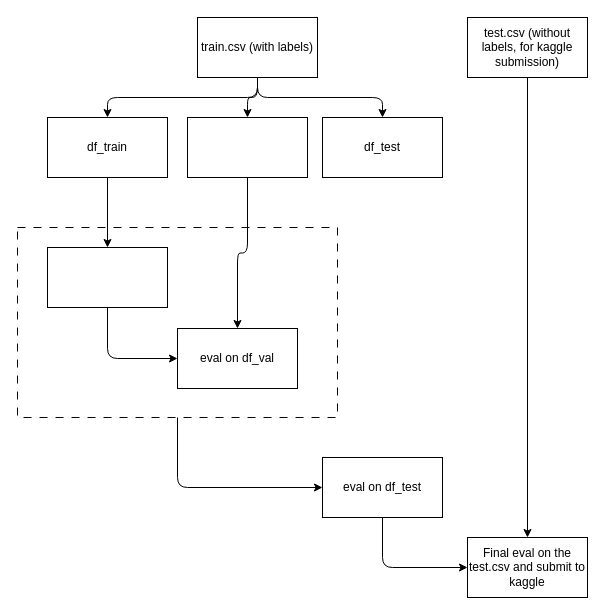
The diagram is 605 pixels wide and 615 high, and some of its shapes have lost their labels. Here are the shapes that lost their labels. From the top down, the box of each, then its label:
(186, 116, 308, 178): df_val
(46, 246, 168, 308): train model
(16, 226, 338, 418): Optimization loop
